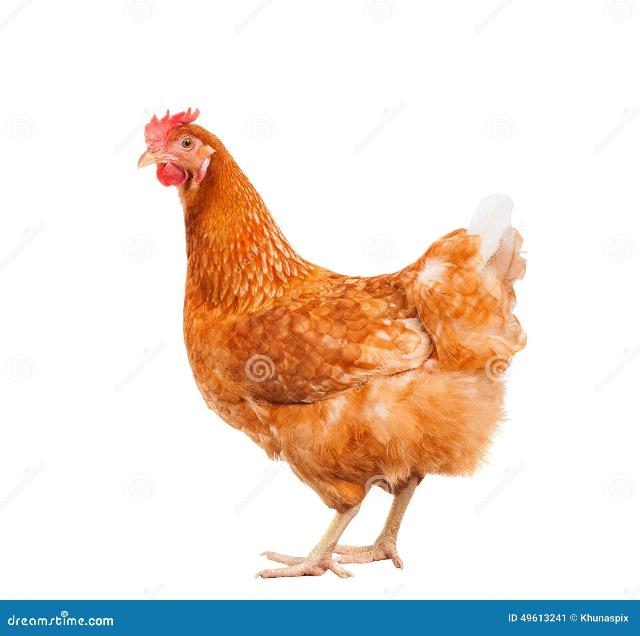Chicken: (135, 108, 530, 579)
